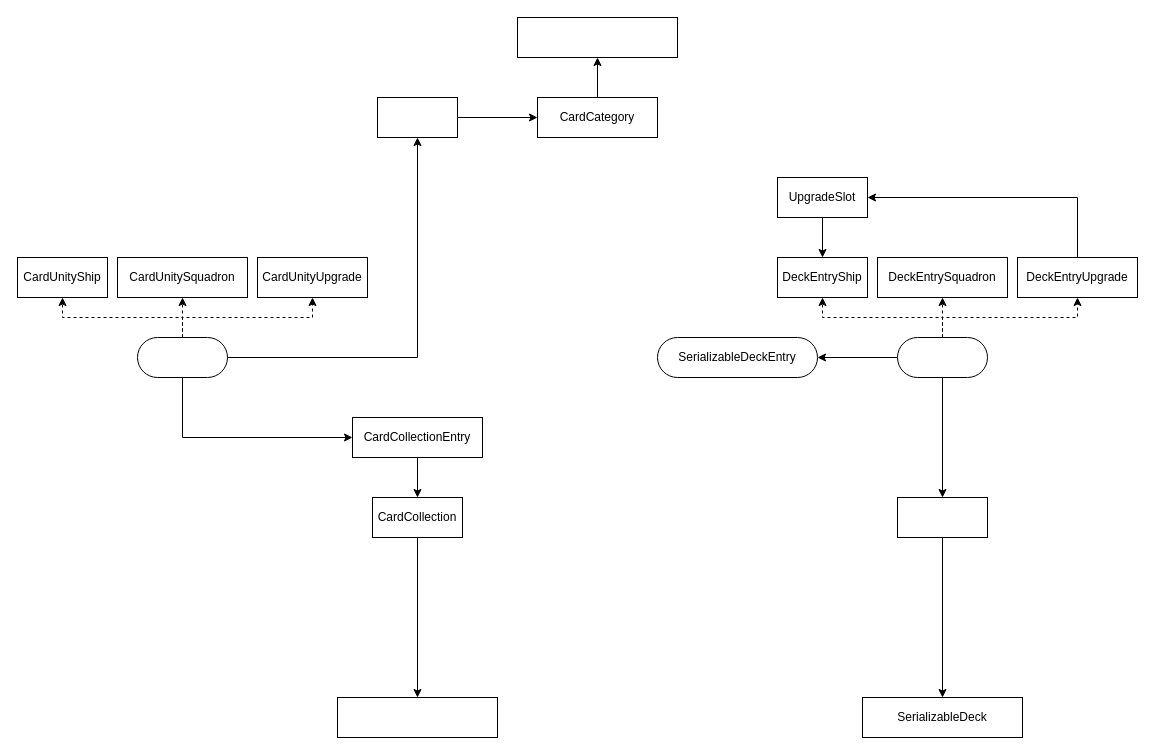
This 1155x755 diagram has some shape labels left out. The centre of each missing label's shape, as x and y in pixels:
CardUI: [417,117]
CardUnityBase: [182,357]
CollectionContentControl: [597,37]
Deck: [942,517]
DeckEntry: [942,357]
SerializableCardCollection: [417,717]
